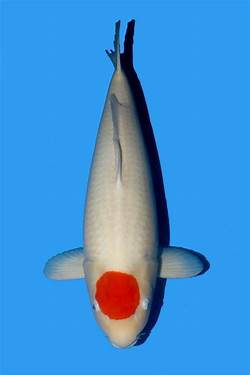sun: (43, 16, 209, 349)
